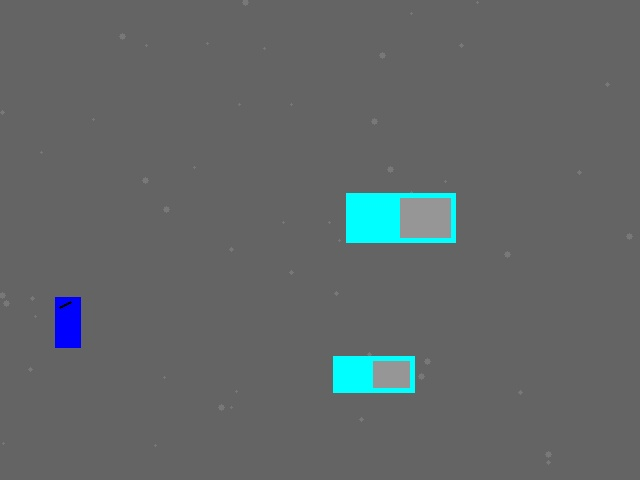motorcycle: (55, 297, 80, 347)
truck: (346, 193, 455, 242), (333, 356, 414, 392)
